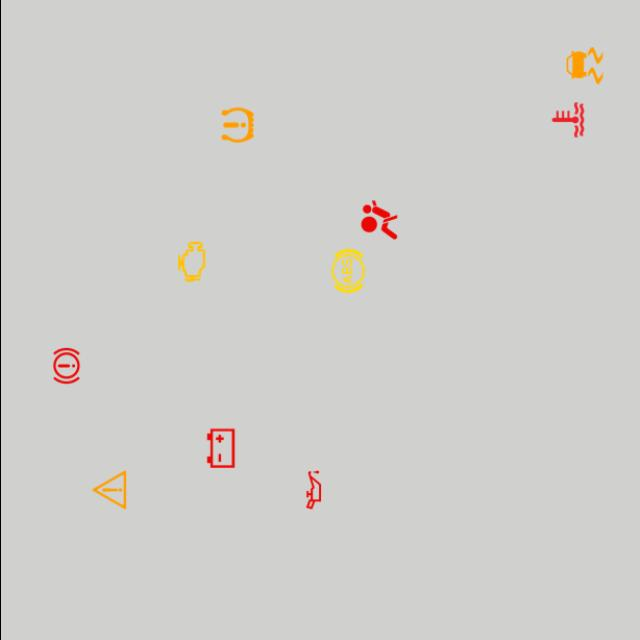Anti Lock Braking System: (323, 247, 371, 295)
Braking System Issue: (42, 342, 90, 390)
Charging System Issue: (196, 424, 244, 472)
Check Engine: (167, 238, 214, 286)
Electronic Stability Problem -ESP-: (560, 42, 608, 90)
Engine Overheating Warning Light: (543, 96, 591, 144)
Low Engine Oil Warning Light: (288, 466, 336, 514)
Low Tire Pressure Warning Light: (212, 101, 260, 149)
Master warning light: (84, 466, 132, 514)
SRS-Airbag: (354, 196, 402, 244)
